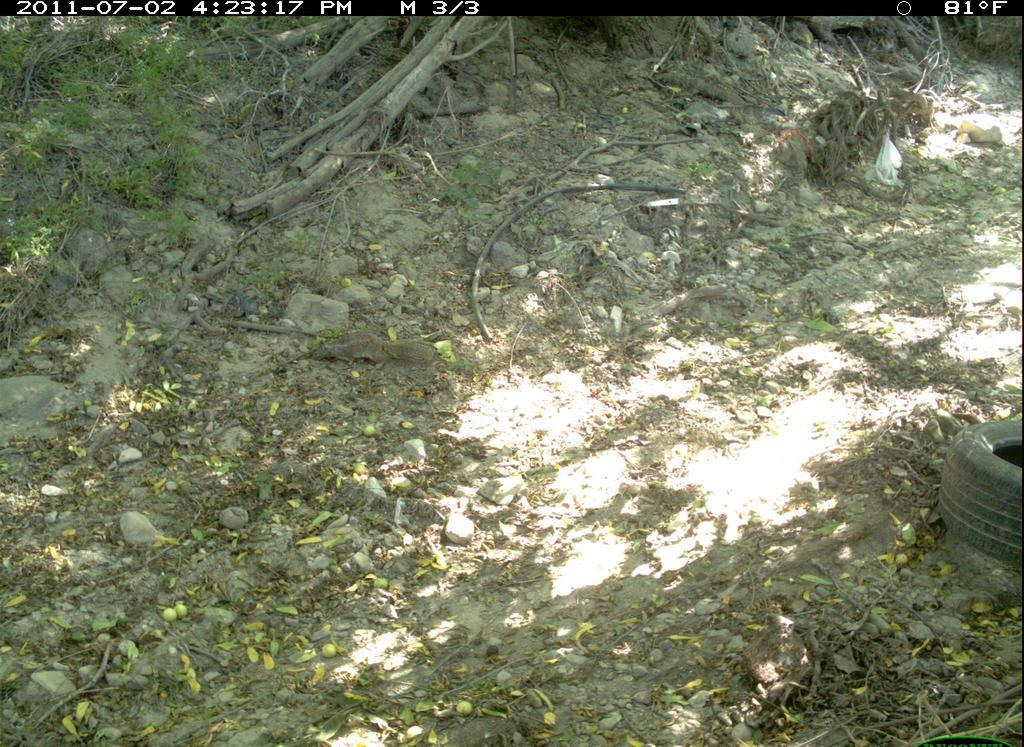squirrel: (304, 327, 443, 376)
